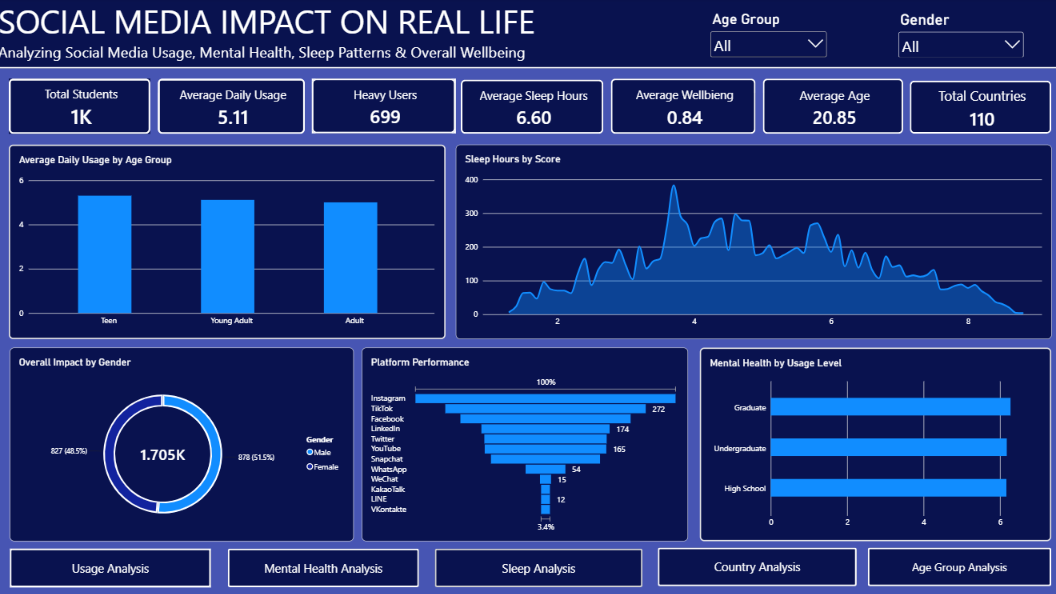

What the dashboard file says about the page in this screenshot:
{"tool":"powerbi","page":{"name":"Social Media overview","canvas":[1920,1080],"ordinal":0},"visuals":[{"type":"textbox","box":[0,0,1920,128],"z":0},{"type":"cardVisual","fields":{"Data":["Social_media_impact_on_life (1).Total Students"]},"box":[22,146,256,100],"z":1000},{"type":"cardVisual","fields":{"Data":["Social_media_impact_on_life (1).Average Daily Usage"]},"box":[292,146,266,100],"z":2000},{"type":"cardVisual","fields":{"Data":["Social_media_impact_on_life (1).Average Sleep Hours"]},"box":[840,148,258,98],"z":4000},{"type":"cardVisual","fields":{"Data":["Social_media_impact_on_life (1).Average Wellbieng"]},"box":[1112,146,262,100],"z":5000},{"type":"cardVisual","fields":{"Data":["Social_media_impact_on_life (1).Average Age"]},"box":[1386,146,254,100],"z":6000},{"type":"cardVisual","fields":{"Data":["Social_media_impact_on_life (1).Total Countries"]},"box":[1652,150,256,96],"z":7000},{"type":"clusteredColumnChart","title":"Average Daily Usage by Age Group","fields":{"Category":["Social_media_impact_on_life (1).Age_Group"],"Y":["Avg(Social_media_impact_on_life (1).Avg_Daily_Usage_Hours)"]},"box":[22,266,790,352],"z":8000},{"type":"clusteredBarChart","title":"Mental Health by Usage Level","fields":{"Category":["Social_media_impact_on_life (1).Academic_Level"],"Y":["Avg(Social_media_impact_on_life (1).Mental_Health_Score)"]},"box":[1272,634,636,350],"z":9000},{"type":"areaChart","title":"Sleep Hours by Score","fields":{"Category":["Social_media_impact_on_life (1).Avg_Daily_Usage_Hours"],"Y":["Sum(Social_media_impact_on_life (1).Sleep_Hours_Per_Night)"]},"box":[830,266,1078,352],"z":10000},{"type":"donutChart","title":"Overall Impact by Gender","fields":{"Category":["Social_media_impact_on_life (1).Gender"],"Y":["CountNonNull(Social_media_impact_on_life (1).Overall_Impact)"]},"box":[24,634,622,350],"z":11000},{"type":"slicer","fields":{"Values":["Social_media_impact_on_life (1).Gender"]},"box":[1626,24,236,84],"z":12000},{"type":"slicer","fields":{"Values":["Social_media_impact_on_life (1).Age_Group"]},"box":[1286,24,220,84],"z":13000},{"type":"actionButton","box":[24,998,364,70],"z":14000},{"type":"actionButton","box":[418,998,346,70],"z":15000},{"type":"actionButton","box":[792,998,376,70],"z":16000},{"type":"actionButton","box":[1196,996,360,70],"z":17000},{"type":"funnel","title":"Platform Performance","fields":{"Category":["Social_media_impact_on_life (1).Most_Used_Platform"],"Y":["Count(Social_media_impact_on_life (1).Student_ID)"]},"box":[660,634,590,350],"z":18000},{"type":"actionButton","box":[1576,996,332,70],"z":18002},{"type":"cardVisual","fields":{"Data":["Social_media_impact_on_life (1).Heavy Users"]},"box":[570,146.6,260.6,99.5],"z":18003}]}

Visuals, with their boxes in screenshot pixels (x1, y1, x2, y2), scaled from the page's 1920x1080 canvas onto the 1056x594 screenshot:
textbox: {"left": 0, "top": 0, "right": 1055, "bottom": 70}
cardVisual - Social_media_impact_on_life (1).Total Students: {"left": 12, "top": 80, "right": 153, "bottom": 135}
cardVisual - Social_media_impact_on_life (1).Average Daily Usage: {"left": 161, "top": 80, "right": 307, "bottom": 135}
cardVisual - Social_media_impact_on_life (1).Average Sleep Hours: {"left": 462, "top": 81, "right": 604, "bottom": 135}
cardVisual - Social_media_impact_on_life (1).Average Wellbieng: {"left": 612, "top": 80, "right": 756, "bottom": 135}
cardVisual - Social_media_impact_on_life (1).Average Age: {"left": 762, "top": 80, "right": 902, "bottom": 135}
cardVisual - Social_media_impact_on_life (1).Total Countries: {"left": 909, "top": 82, "right": 1049, "bottom": 135}
"Average Daily Usage by Age Group" clusteredColumnChart: {"left": 12, "top": 146, "right": 447, "bottom": 340}
"Mental Health by Usage Level" clusteredBarChart: {"left": 700, "top": 349, "right": 1049, "bottom": 541}
"Sleep Hours by Score" areaChart: {"left": 457, "top": 146, "right": 1049, "bottom": 340}
"Overall Impact by Gender" donutChart: {"left": 13, "top": 349, "right": 355, "bottom": 541}
slicer - Social_media_impact_on_life (1).Gender: {"left": 894, "top": 13, "right": 1024, "bottom": 59}
slicer - Social_media_impact_on_life (1).Age_Group: {"left": 707, "top": 13, "right": 828, "bottom": 59}
actionButton: {"left": 13, "top": 549, "right": 213, "bottom": 587}
actionButton: {"left": 230, "top": 549, "right": 420, "bottom": 587}
actionButton: {"left": 436, "top": 549, "right": 642, "bottom": 587}
actionButton: {"left": 658, "top": 548, "right": 856, "bottom": 586}
"Platform Performance" funnel: {"left": 363, "top": 349, "right": 688, "bottom": 541}
actionButton: {"left": 867, "top": 548, "right": 1049, "bottom": 586}
cardVisual - Social_media_impact_on_life (1).Heavy Users: {"left": 314, "top": 81, "right": 457, "bottom": 135}
